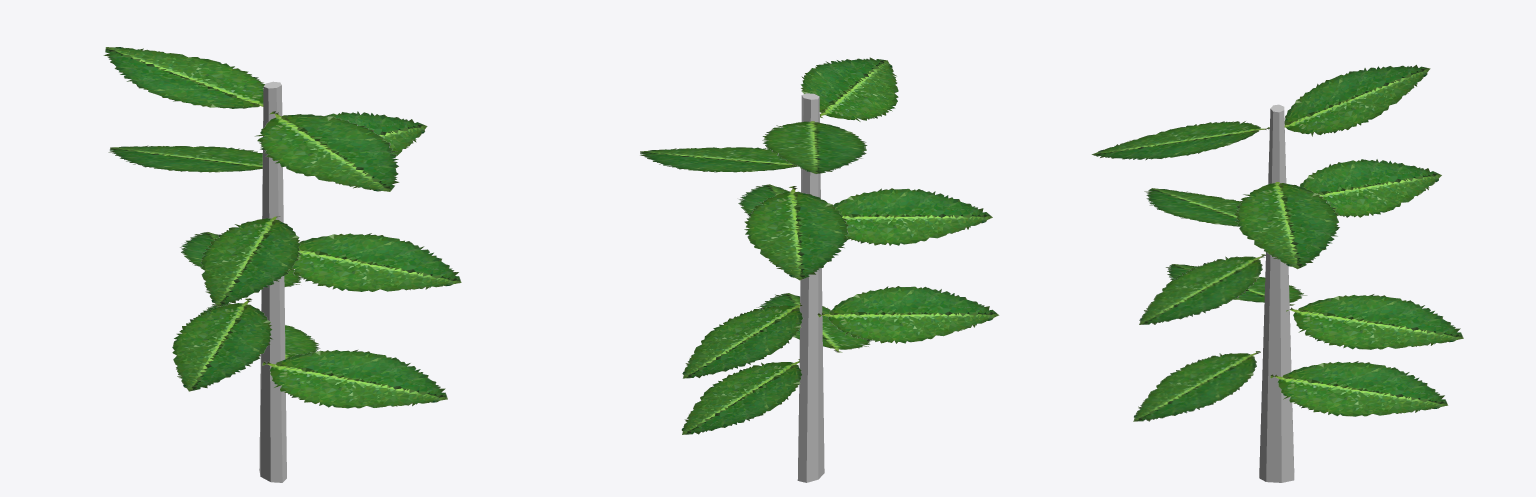
The model's file is Testbush.fbx.
3 renders of one model, left to right at view 1: azimuth 30°, elevation 25°; view 2: azimuth 150°, elevation 25°; view 3: azimuth 270°, elevation 25°, orthographic. The views are drawn at different scales.
Parts seen in each view (by area): view 1: Plane.008, Plane.004, Plane.002, Cylinder, Plane.006, Plane.003, Plane.005, Plane.000, Plane.009, Plane.001, Plane.007; view 2: Plane.003, Plane.000, Plane.005, Cylinder, Plane.001, Plane.007, Plane.004, Plane.006, Plane.009, Plane.008, Plane.002; view 3: Cylinder, Plane.007, Plane.001, Plane.009, Plane.006, Plane.000, Plane.008, Plane.002, Plane.004, Plane.005, Plane.003.
Part boxes in pixels (x1,y1,x2,y2): Plane.008: (262, 349, 447, 408); Plane.004: (254, 111, 399, 191); Plane.002: (288, 233, 461, 291); Cylinder: (259, 81, 286, 482); Plane.006: (103, 47, 264, 108); Plane.003: (172, 298, 273, 391); Plane.005: (200, 216, 301, 306); Plane.000: (108, 145, 262, 172); Plane.009: (324, 111, 427, 155); Plane.001: (180, 232, 302, 286); Plane.007: (200, 303, 320, 358); Plane.003: (817, 286, 999, 343); Plane.000: (744, 186, 848, 280); Plane.005: (833, 188, 992, 245); Cylinder: (797, 93, 824, 482); Plane.001: (682, 302, 803, 378); Plane.007: (681, 359, 802, 434); Plane.004: (800, 57, 898, 121); Plane.006: (762, 121, 867, 174); Plane.009: (640, 147, 796, 172); Plane.008: (756, 293, 872, 352); Plane.002: (738, 184, 789, 216); Cylinder: (1259, 104, 1294, 482); Plane.007: (1270, 361, 1448, 416); Plane.001: (1286, 294, 1463, 349); Plane.009: (1234, 182, 1339, 269); Plane.006: (1284, 64, 1430, 136); Plane.000: (1299, 159, 1441, 217); Plane.008: (1133, 351, 1260, 421); Plane.002: (1139, 254, 1265, 324); Plane.004: (1091, 121, 1269, 160); Plane.005: (1144, 188, 1240, 226); Plane.003: (1165, 264, 1307, 305).
Size of the model in its own units: 111 by 104 by 120.
